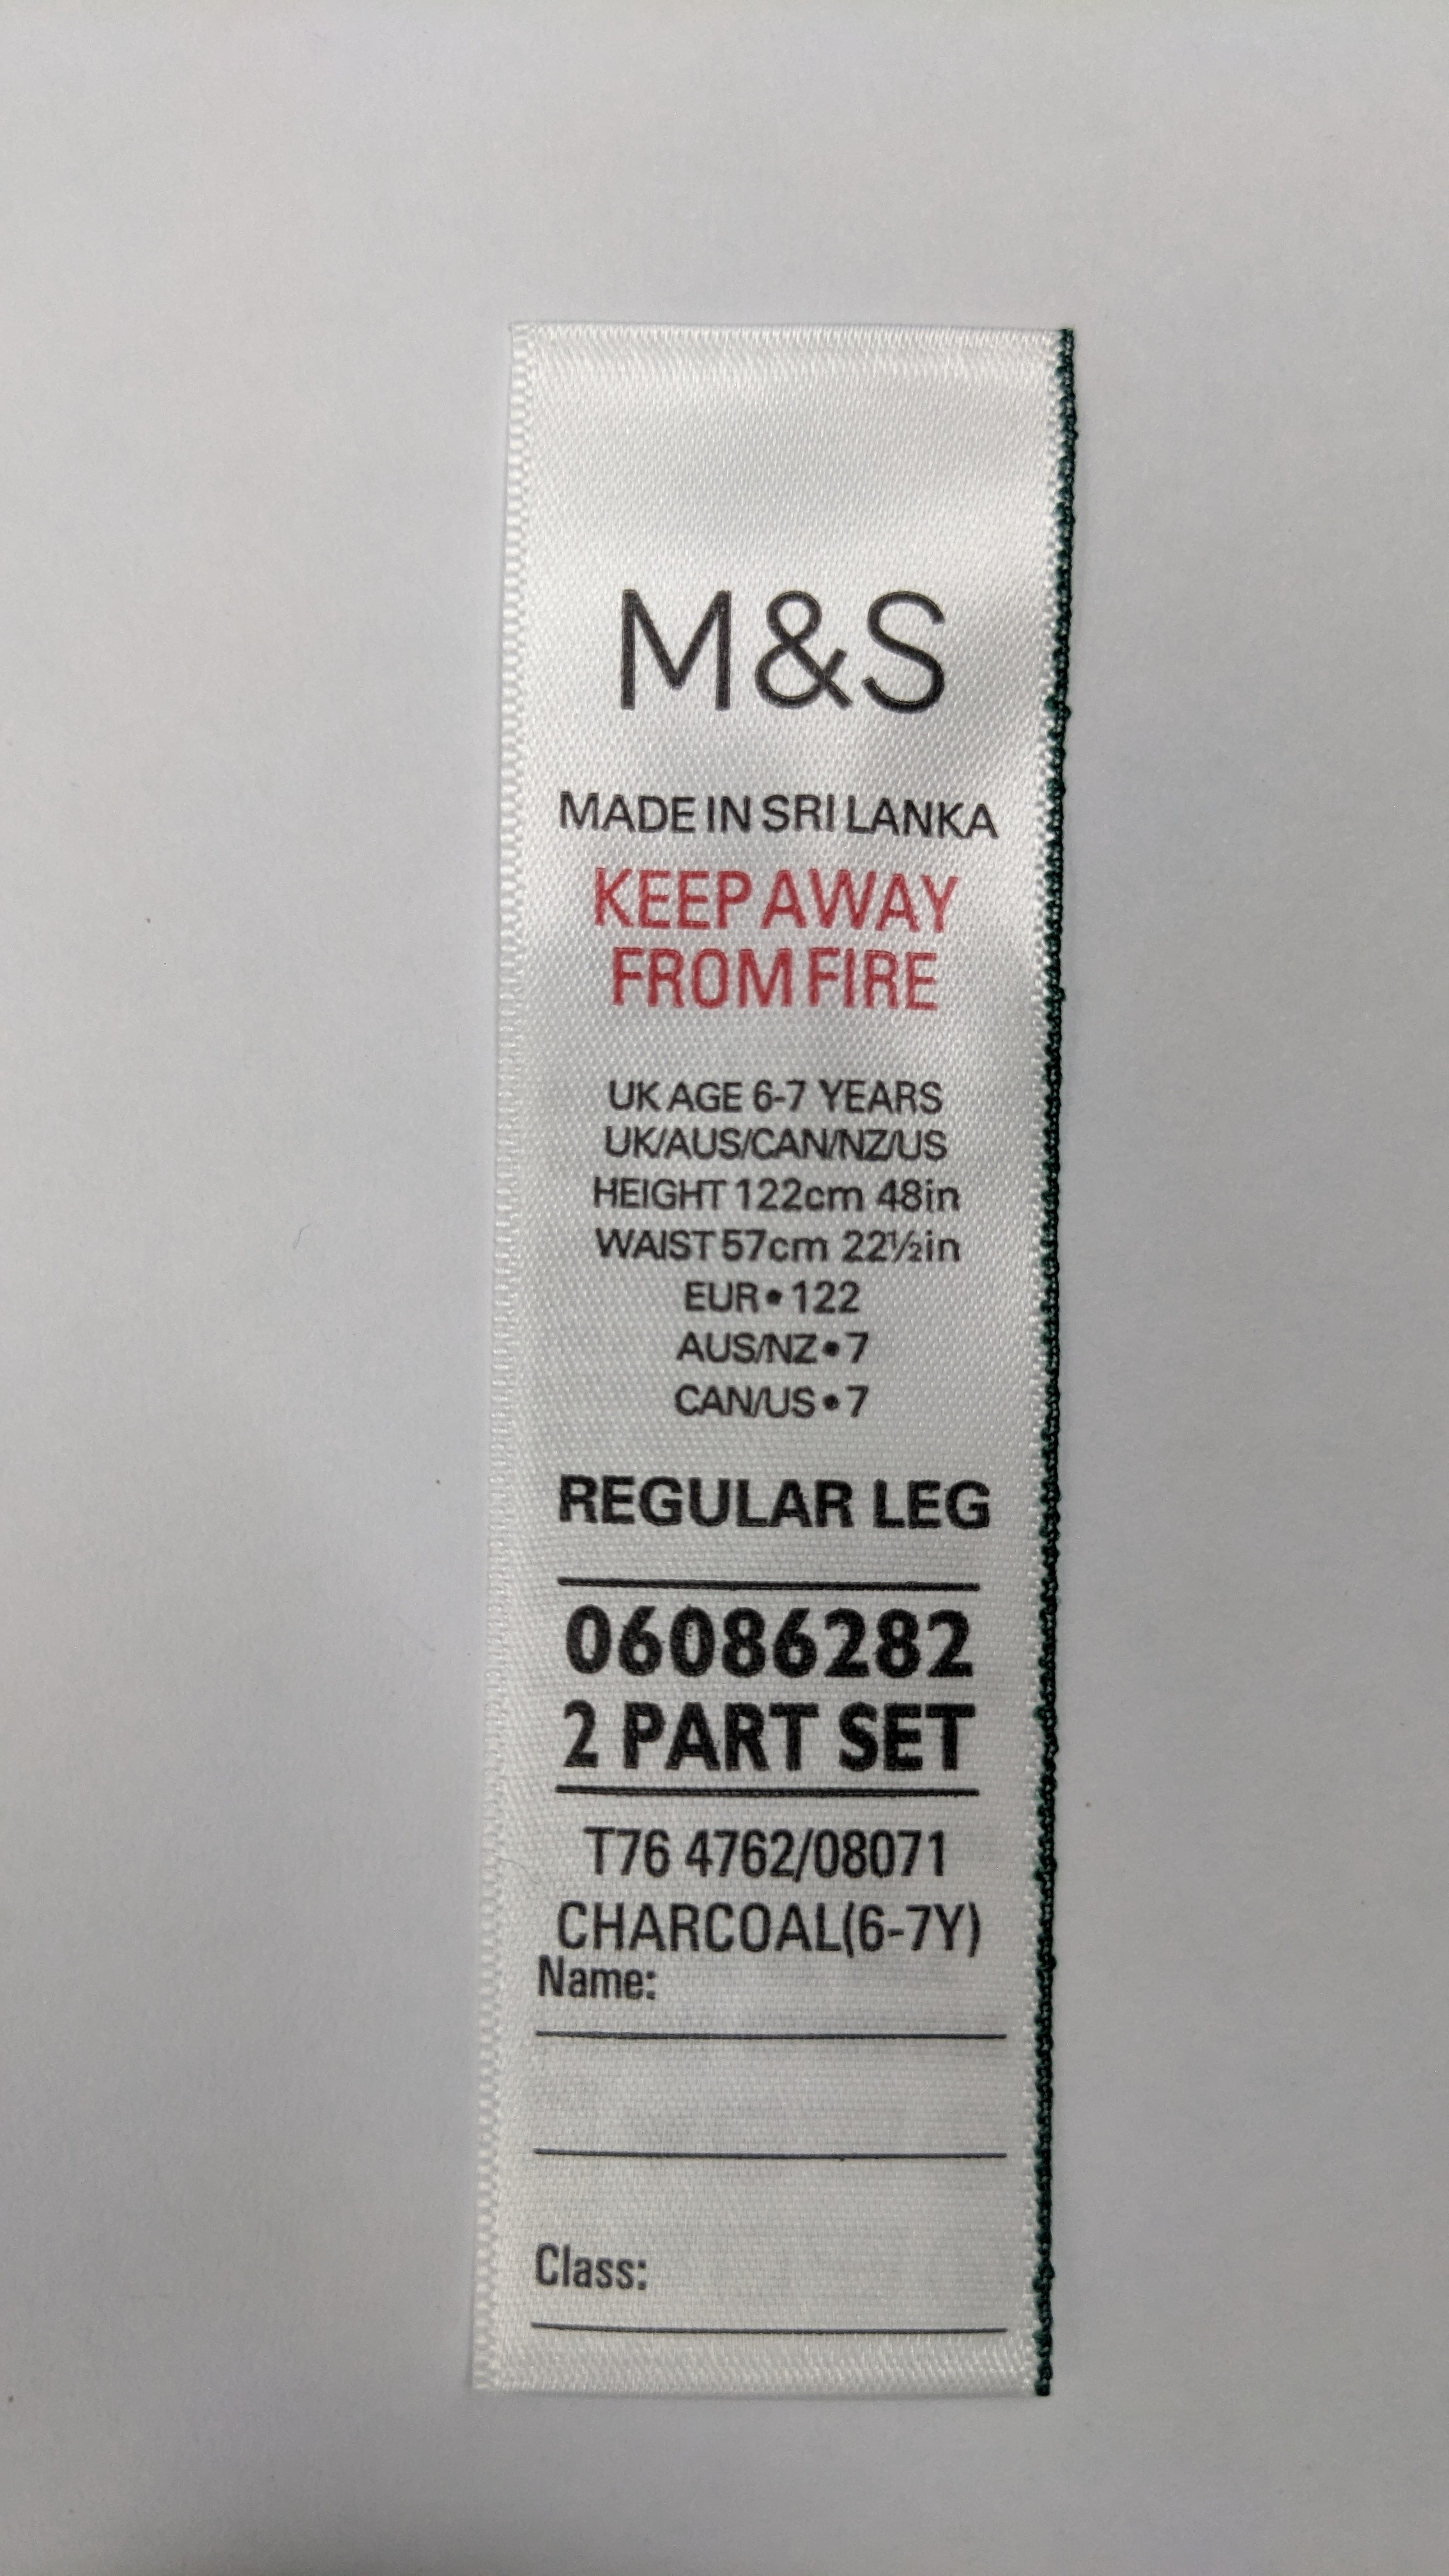Good_label: (471, 260, 1093, 2401)
